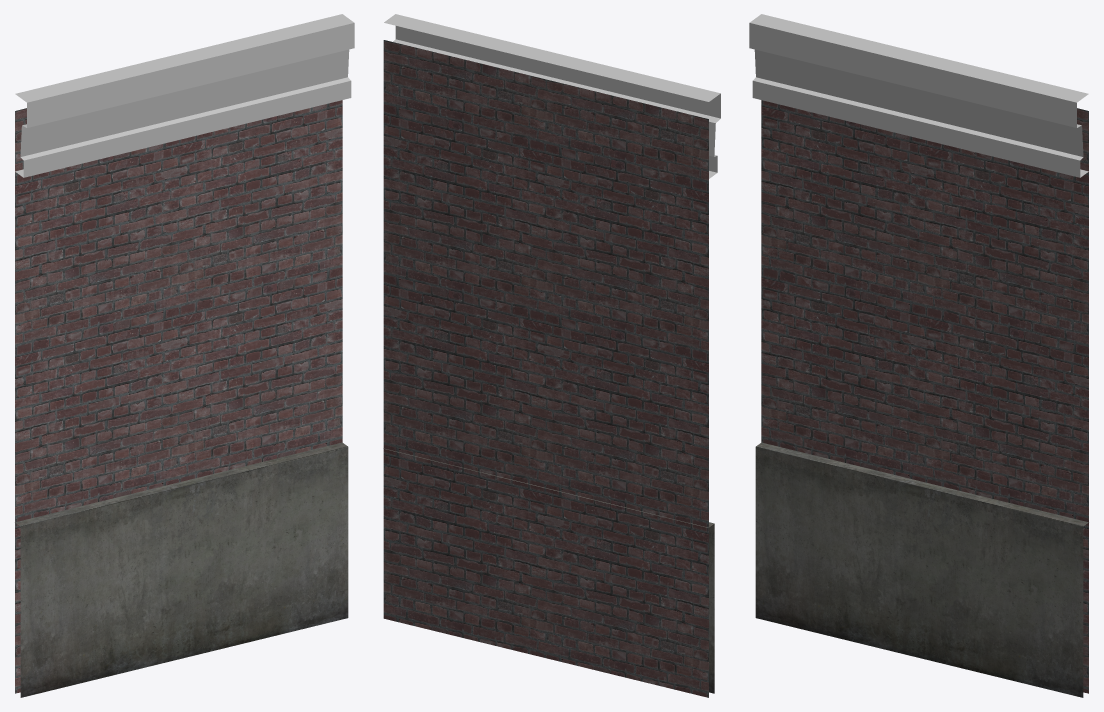
Rendered from Wall_C_Brick_2x.FBX.
The picture shows the model from 3 angles, left to right: view 1: azimuth 30°, elevation 25°; view 2: azimuth 150°, elevation 25°; view 3: azimuth 330°, elevation 25°; orthographic projection.
Visible parts, largest first — view 1: Wall_C_Brick_2x; view 2: Wall_C_Brick_2x; view 3: Wall_C_Brick_2x.
Boxes of the visible parts, x1,y1,x2,y2 form: Wall_C_Brick_2x: (15, 14, 354, 697); Wall_C_Brick_2x: (383, 14, 720, 697); Wall_C_Brick_2x: (749, 14, 1088, 697).
Bounding box in the file's own units: 200 × 350 × 13.28.
